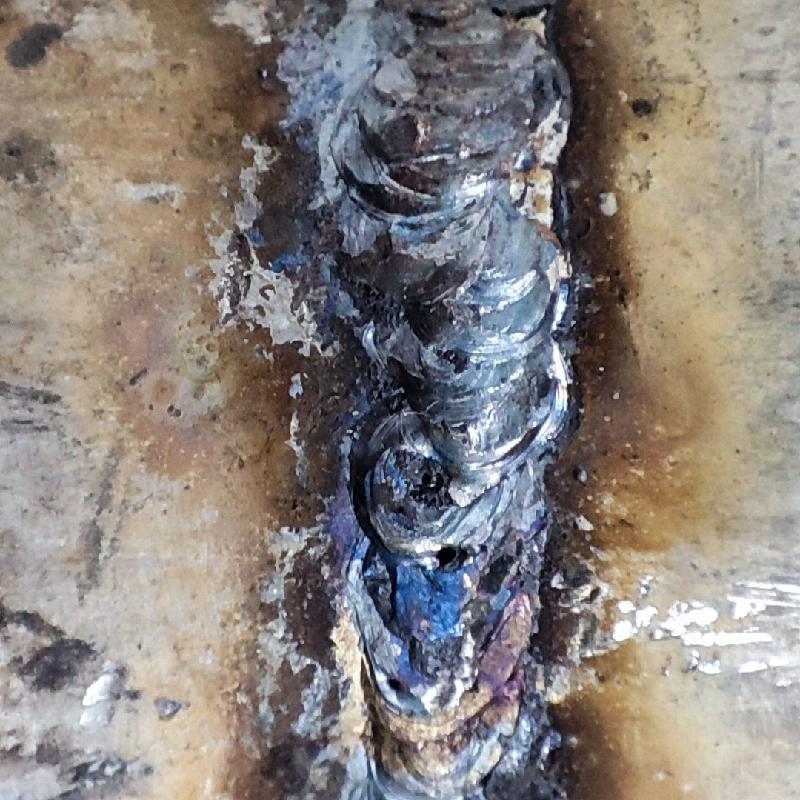Surface_pores: (424, 533, 469, 584)
